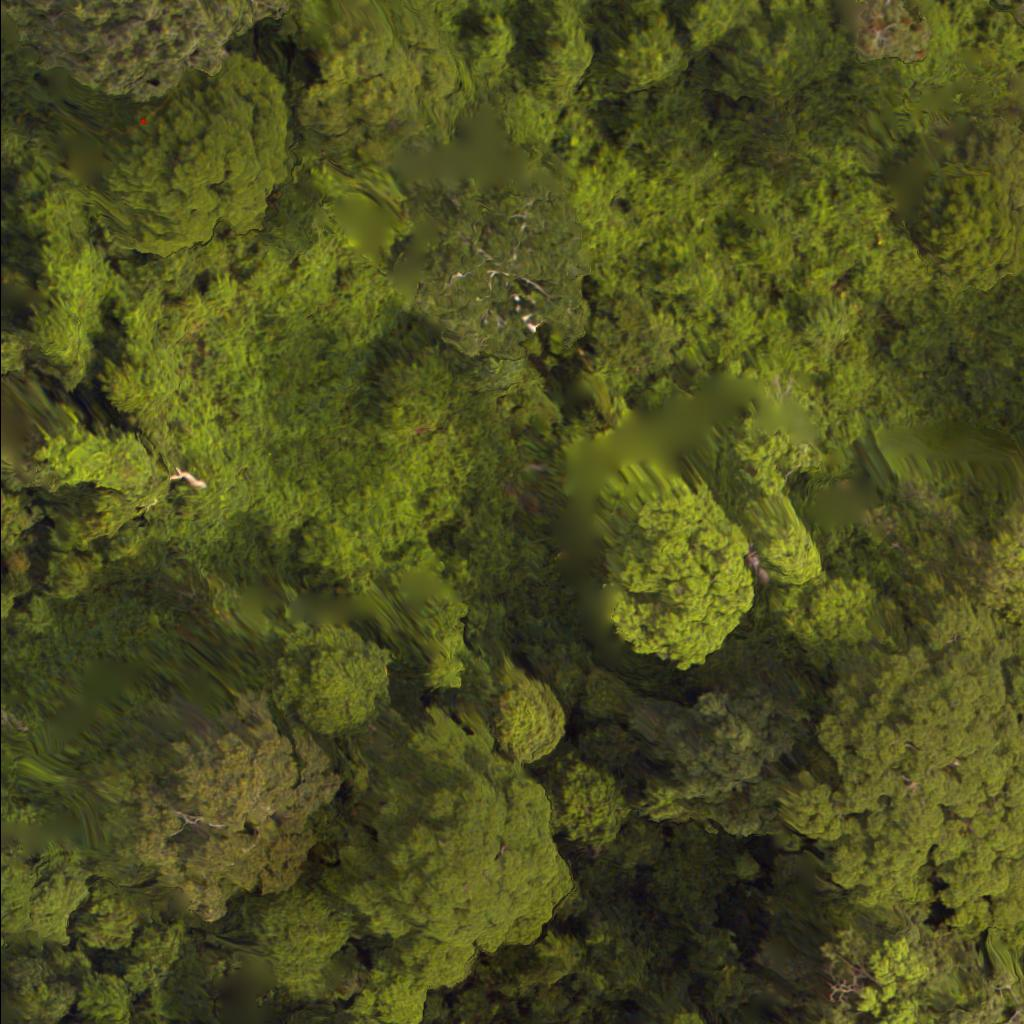crown: (309, 695, 576, 957), (824, 605, 1023, 951), (81, 689, 360, 913), (594, 470, 763, 662), (0, 0, 288, 83), (804, 938, 1023, 1023)
